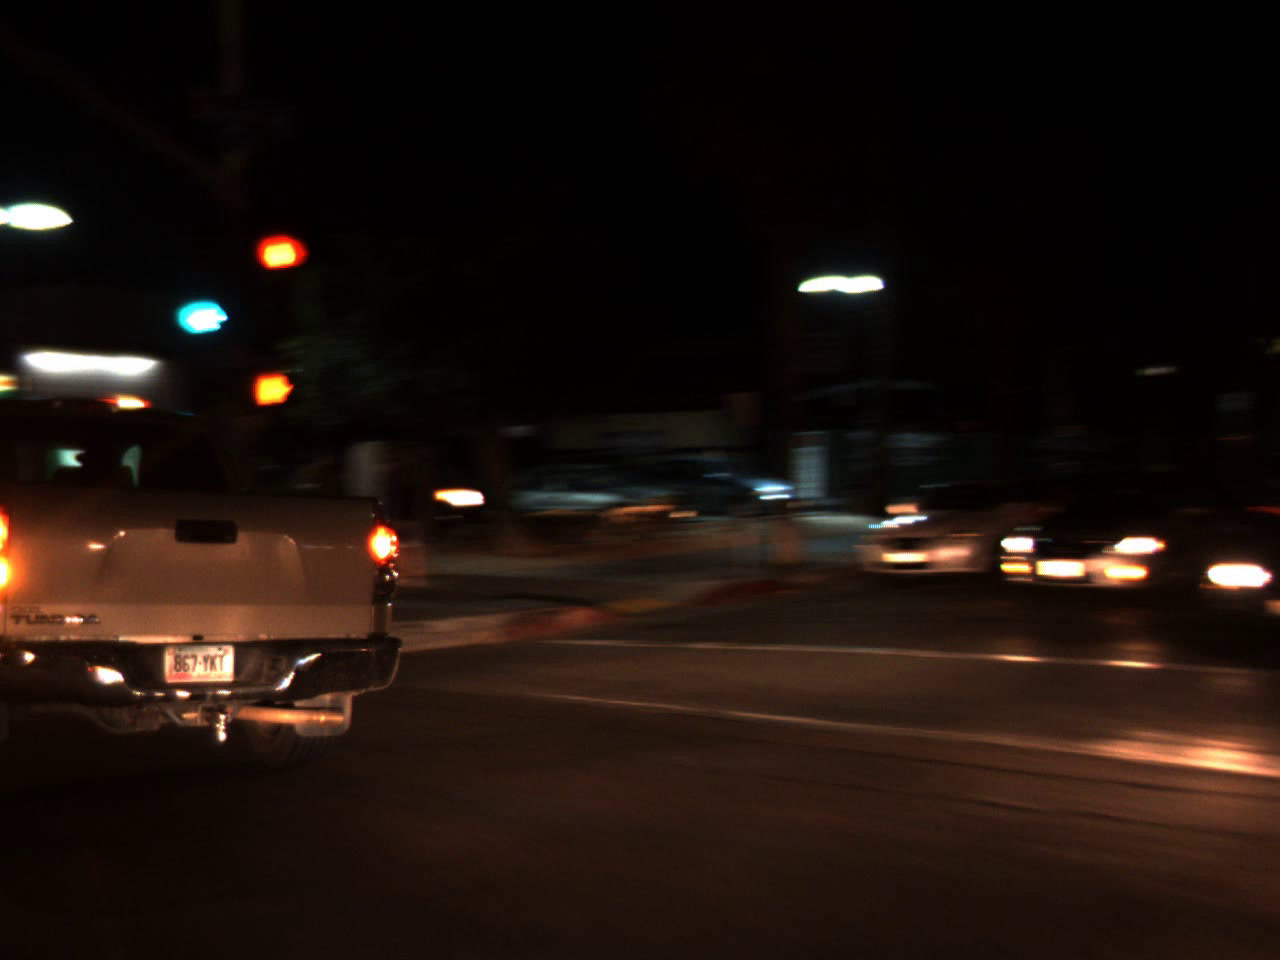go: (168, 274, 241, 346)
